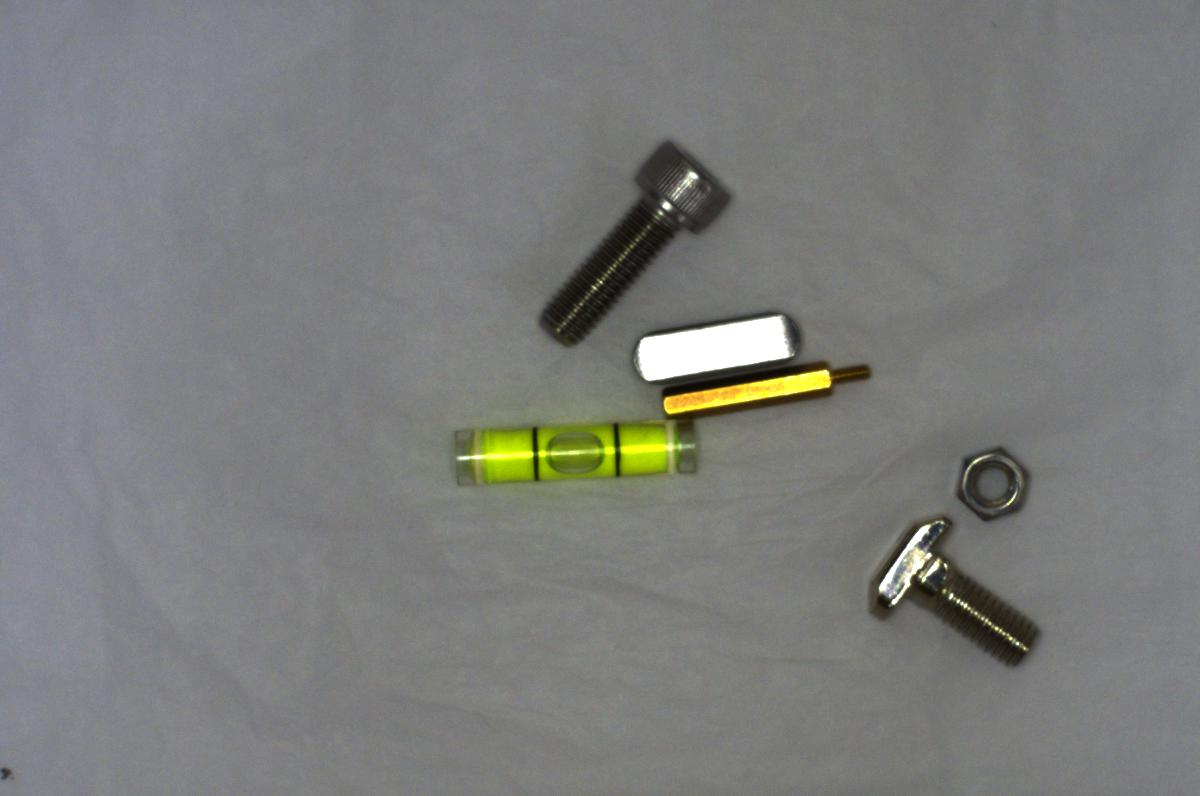Hexagon nut: (942, 432, 1041, 535)
Hexagon pillar: (652, 349, 897, 433)
Hexagon screw: (517, 126, 738, 351)
Horizontal bubble: (434, 399, 711, 499)
Keybar: (632, 308, 803, 391)
T-shaped screw: (860, 504, 1052, 674)
